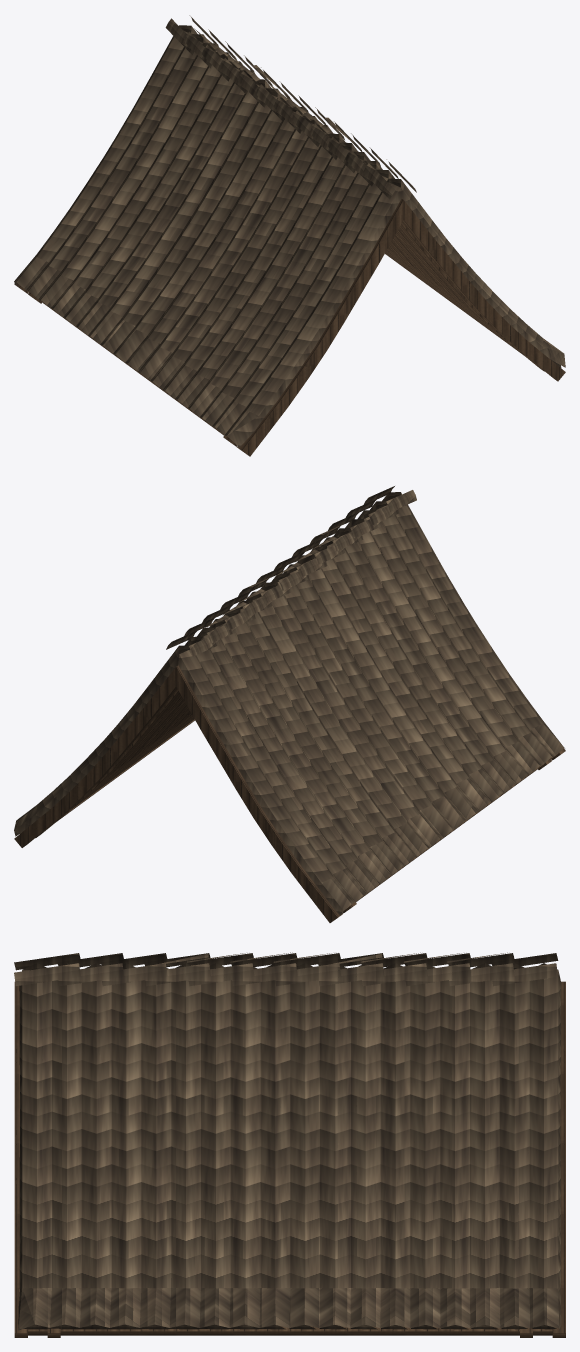
Rendered from Roof_Shingle_6x8.gltf.
3 renders of one model, top to bottom at view 1: azimuth 30°, elevation 25°; view 2: azimuth 150°, elevation 25°; view 3: azimuth 270°, elevation 25°, orthographic. The views are drawn at different scales.
Visible parts, largest first — view 1: Roof_Shingle_6x8; view 2: Roof_Shingle_6x8; view 3: Roof_Shingle_6x8.
Part boxes in pixels (x1,y1,x2,y2): Roof_Shingle_6x8: [14, 15, 565, 456]; Roof_Shingle_6x8: [14, 486, 565, 922]; Roof_Shingle_6x8: [14, 952, 565, 1337].
Size of the model in its own units: 8.25 by 5.67 by 9.67.
Materials: 2 (2 with a texture image).
